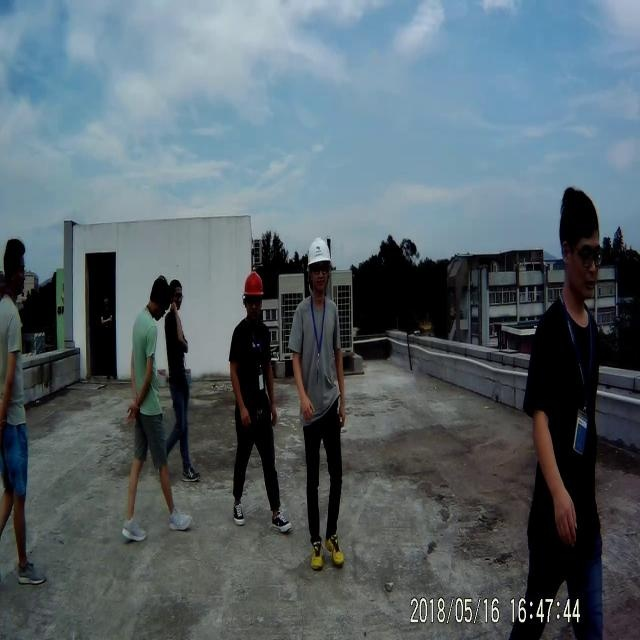Con_Casco: (308, 238, 332, 294), (242, 270, 264, 322)
Sin_Chaleco: (290, 295, 342, 423)
